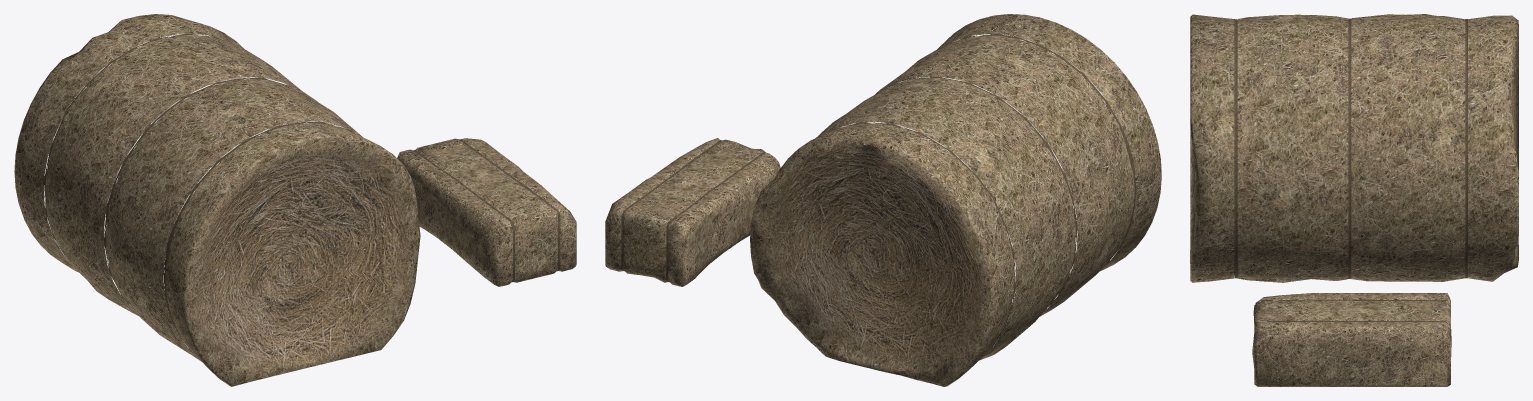
Rendered from hay_bales.glb.
The picture shows the model from 3 angles, left to right: view 1: azimuth 30°, elevation 25°; view 2: azimuth 150°, elevation 25°; view 3: azimuth 270°, elevation 25°; orthographic projection. The views are drawn at different scales.
Parts seen in each view (by area): view 1: Object_4, Object_6; view 2: Object_4, Object_6; view 3: Object_4, Object_6.
Boxes of the visible parts, bbox=[...] form: Object_4: bbox=[14, 14, 420, 386]; Object_6: bbox=[397, 138, 576, 286]; Object_4: bbox=[750, 14, 1161, 386]; Object_6: bbox=[605, 138, 780, 286]; Object_4: bbox=[1190, 14, 1518, 282]; Object_6: bbox=[1252, 293, 1451, 386].
Bounding box in the file's own units: 3.55 × 1.81 × 2.42.
Materials: 1 (1 with a texture image).
